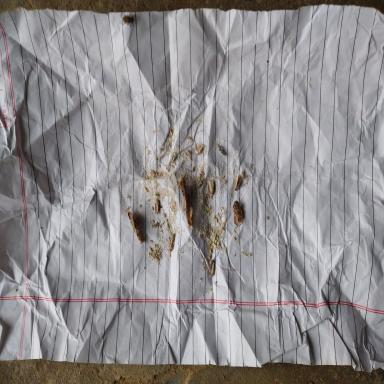pbw: (127, 210, 142, 243), (232, 200, 245, 228), (234, 174, 248, 191), (168, 230, 176, 252), (208, 178, 214, 196), (155, 198, 160, 215)
